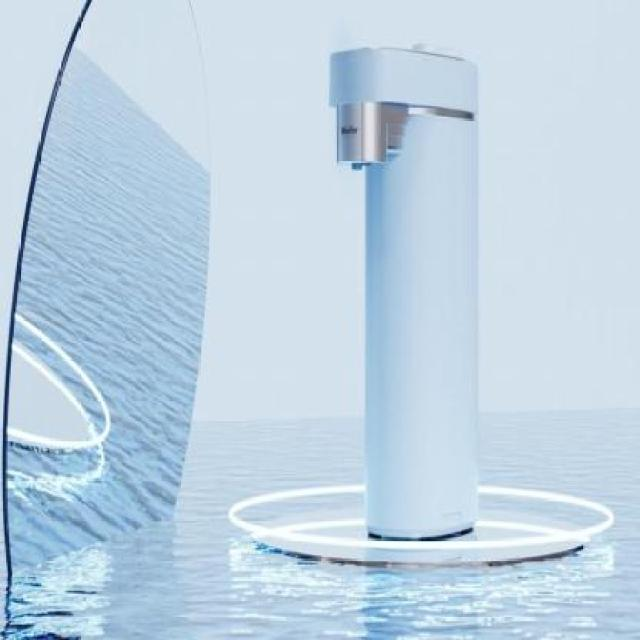cooler: (329, 43, 482, 542)
